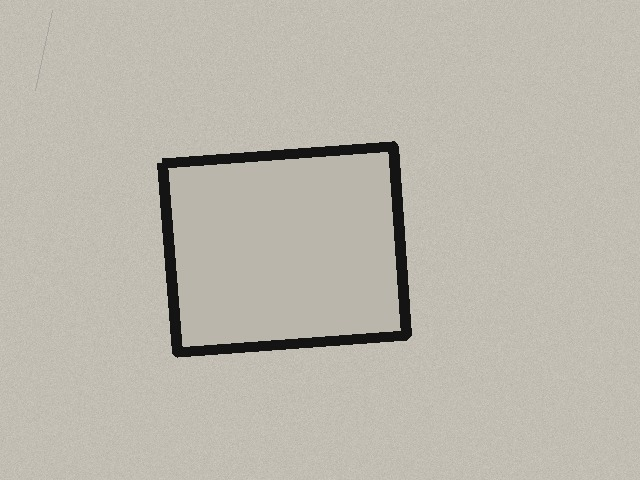parking_area: (162, 146, 406, 352)
